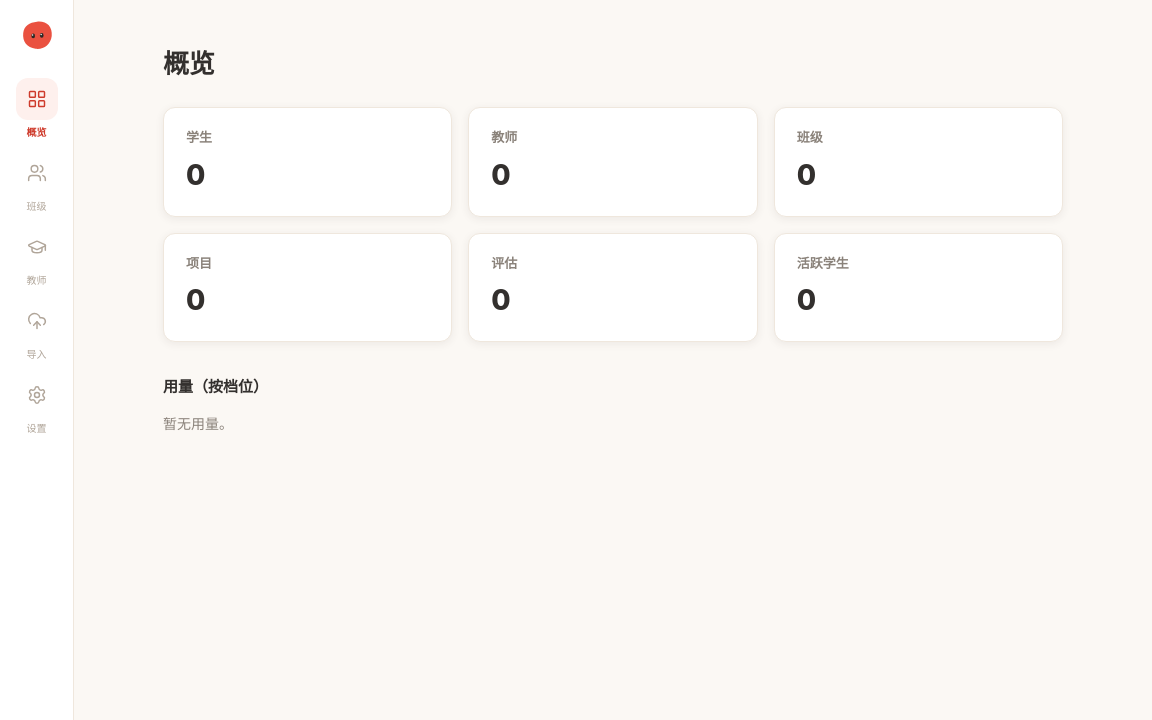
ConsoleShell › absent role defaults to admin: lands on 概览, admin create button present on 班级 tab
The image size is (1152, 720).
Note: Navigate to 班级 tab (use role selector — nav label and page heading both say 班级)
What coordinates should you click on to do the following:
click the tab "班级"
I would click on:
 (36, 173)
Its box is [26, 163, 46, 212].
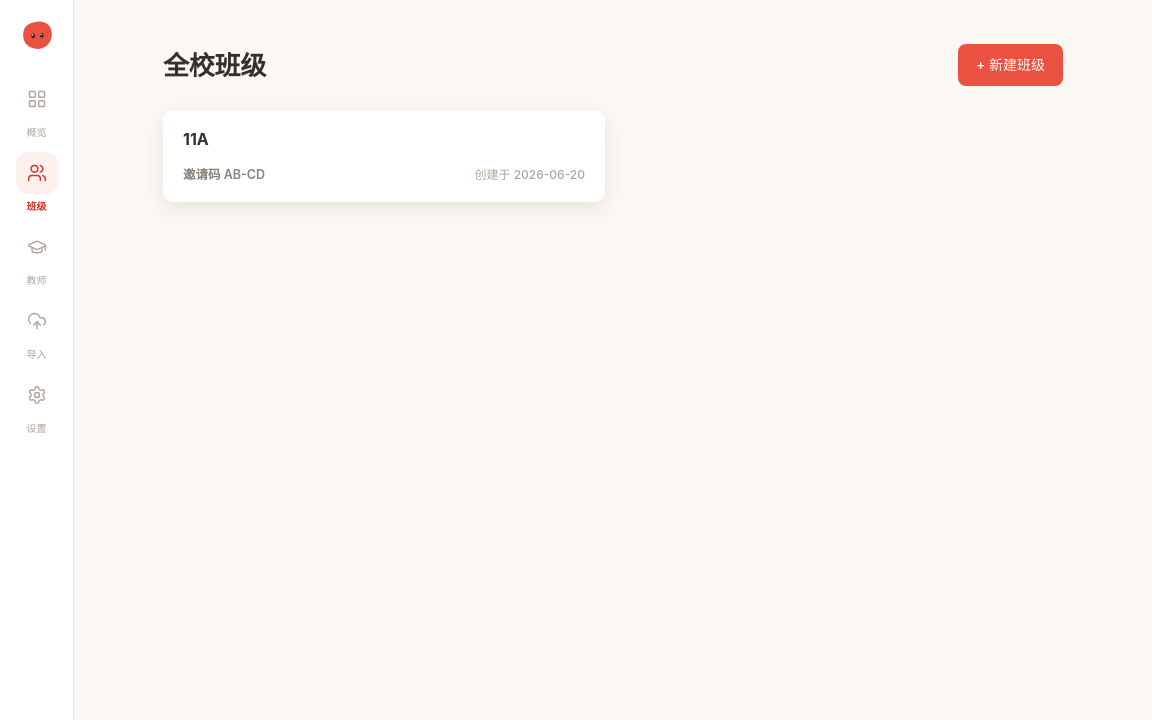
Expected: the button "+ 新建班级" is shown, [958, 44, 1063, 86]
